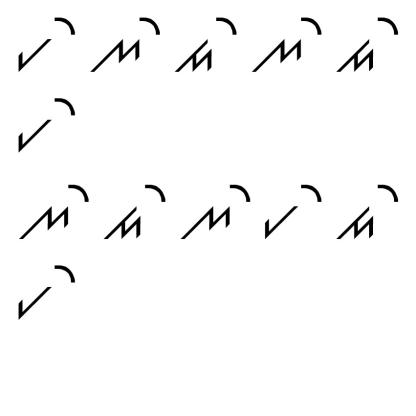day: (334, 12, 406, 76), (336, 176, 402, 245), (104, 179, 168, 249), (172, 12, 241, 75)
nay: (18, 178, 93, 243), (178, 176, 252, 240), (89, 12, 161, 76), (248, 15, 326, 73)
pay: (258, 175, 324, 246), (14, 258, 79, 327), (12, 95, 83, 155), (14, 15, 80, 73)
